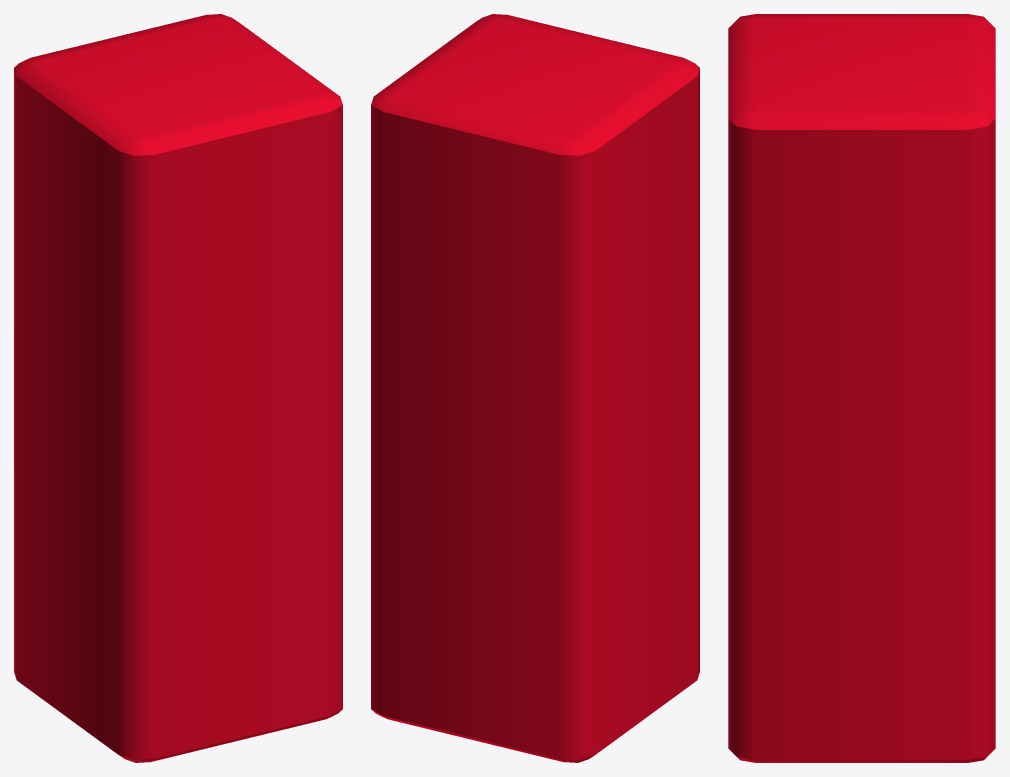
The model's file is FenceCornerPiece.fbx.
3 views of the same model, side by side, from view 1: azimuth 30°, elevation 25°; view 2: azimuth 150°, elevation 25°; view 3: azimuth 270°, elevation 25° (orthographic). The views are drawn at different scales.
Parts seen in each view (by area): view 1: FenceCornerPiece.001; view 2: FenceCornerPiece.001; view 3: FenceCornerPiece.001.
Part boxes in pixels (x1,y1,x2,y2): FenceCornerPiece.001: [14, 14, 342, 762]; FenceCornerPiece.001: [371, 14, 699, 762]; FenceCornerPiece.001: [728, 14, 995, 762].
Size of the model in its own units: 82.13 by 220 by 82.13.
